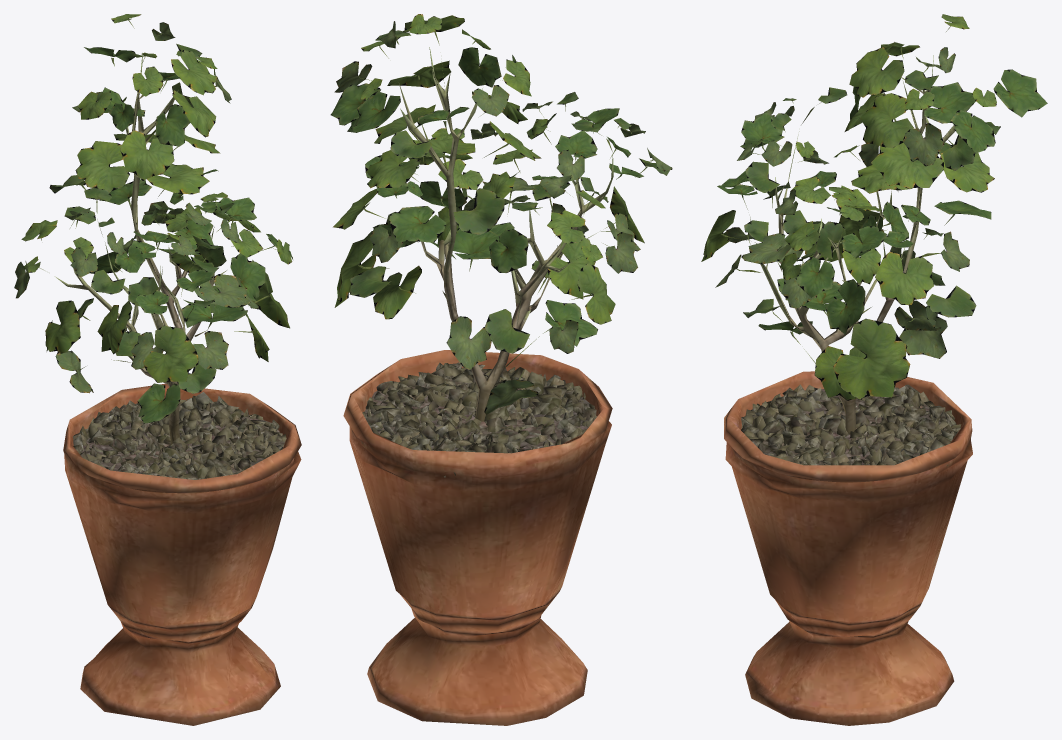
Rendered from potted_plant_01.glb.
The picture shows the model from 3 angles, left to right: view 1: azimuth 30°, elevation 25°; view 2: azimuth 150°, elevation 25°; view 3: azimuth 270°, elevation 25°; orthographic projection. The views are drawn at different scales.
Parts seen in each view (by area): view 1: potted_plant_01_stem, potted_plant_01_leaves; view 2: potted_plant_01_stem, potted_plant_01_leaves; view 3: potted_plant_01_stem, potted_plant_01_leaves.
Boxes of the visible parts, <box> form: potted_plant_01_stem: <box>54,53,301,725</box>; potted_plant_01_leaves: <box>14,14,292,423</box>; potted_plant_01_stem: <box>343,47,613,725</box>; potted_plant_01_leaves: <box>330,14,672,414</box>; potted_plant_01_stem: <box>724,55,972,725</box>; potted_plant_01_leaves: <box>701,14,1047,400</box>.
Size of the model in its own units: 0.5866 by 1.33 by 0.6336.
2 materials, 2 textured.
